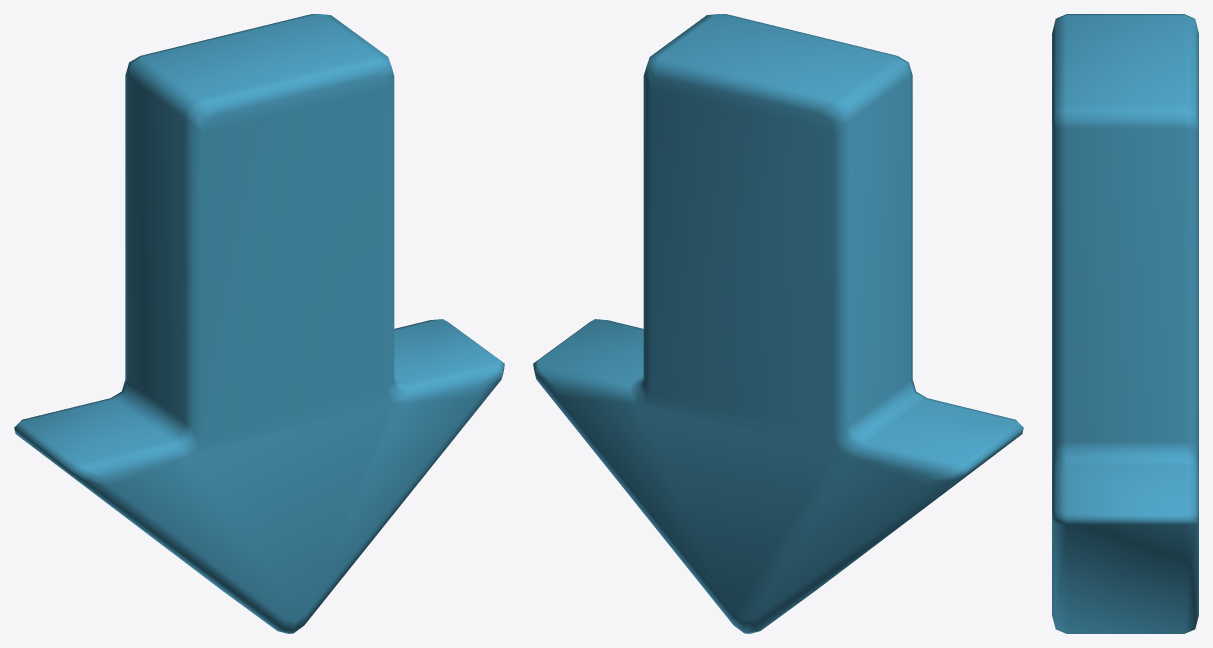
File: JianTou@Idle.FBX
3 views of the same model, side by side, from view 1: azimuth 30°, elevation 25°; view 2: azimuth 150°, elevation 25°; view 3: azimuth 270°, elevation 25° (orthographic). The views are drawn at different scales.
Visible parts, largest first — view 1: 箭头2; view 2: 箭头2; view 3: 箭头2.
Boxes of the visible parts, x1,y1,x2,y2 form: 箭头2: (14, 14, 504, 633); 箭头2: (533, 14, 1023, 633); 箭头2: (1052, 14, 1198, 633).
Bounding box in the file's own units: 84 × 103 × 23.89.
